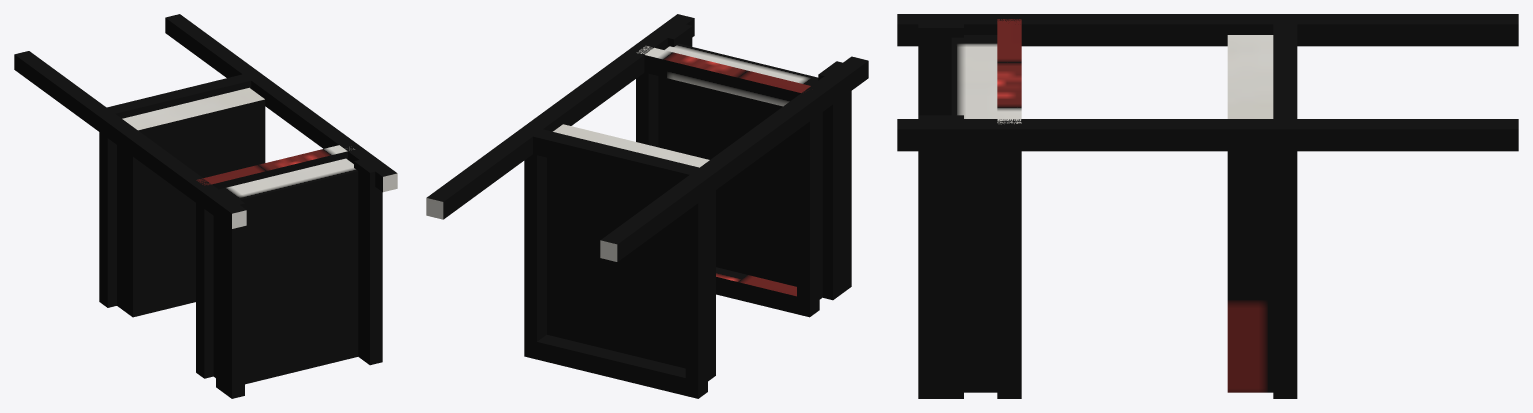
The model's file is pz_house_bunk_red_head.obj.
The picture shows the model from 3 angles, left to right: view 1: azimuth 30°, elevation 25°; view 2: azimuth 150°, elevation 25°; view 3: azimuth 270°, elevation 25°; orthographic projection. The views are drawn at different scales.
Visible parts, largest first — view 1: pz_house_bunk_red_head; view 2: pz_house_bunk_red_head; view 3: pz_house_bunk_red_head.
Boxes of the visible parts, bbox=[...] form: pz_house_bunk_red_head: bbox=[14, 14, 397, 398]; pz_house_bunk_red_head: bbox=[426, 14, 868, 398]; pz_house_bunk_red_head: bbox=[897, 14, 1518, 398].
Bounding box in the file's own units: 0.9 × 1 × 2.05.
